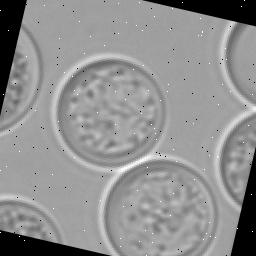picoshell: (51, 53, 164, 171), (99, 161, 217, 256), (0, 25, 40, 132), (220, 116, 256, 203), (0, 194, 63, 242), (226, 23, 256, 100)
